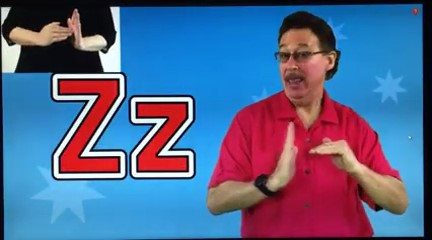Z: (255, 110, 368, 212)
